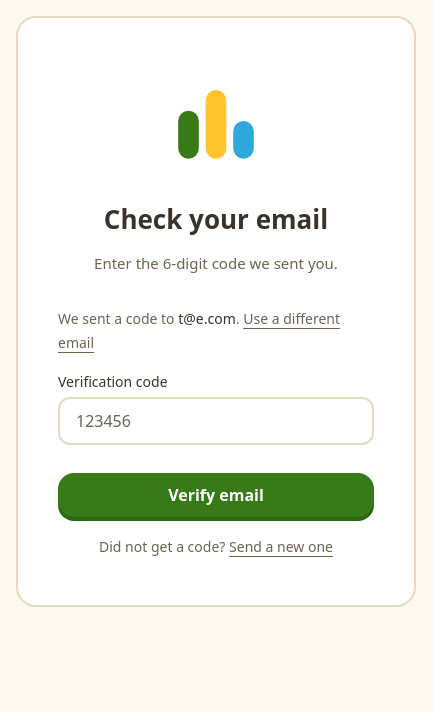
Test: EmailVerifyPage › falls back to a generic message when resend fails without a code
The width and height of the screenshot is (433, 712).
expect the button "Verify email" is shown: met, box [58,473,374,517]
Click the button "Send a new one": {"x": 281, "y": 547} [229,537,333,557]
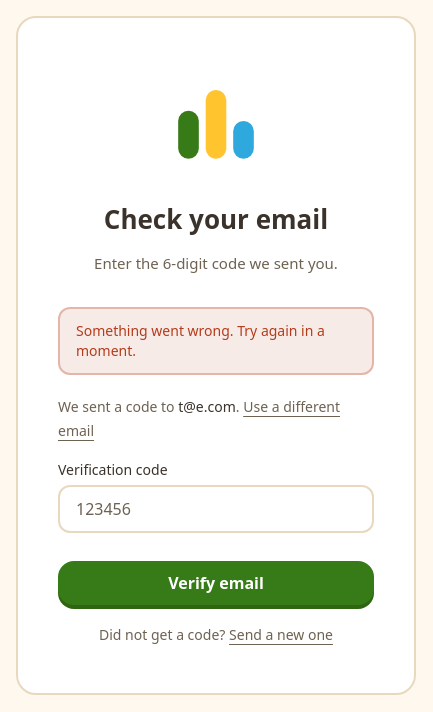
expect the message shows "Something went wrong.": met, box [76,321,325,360]
